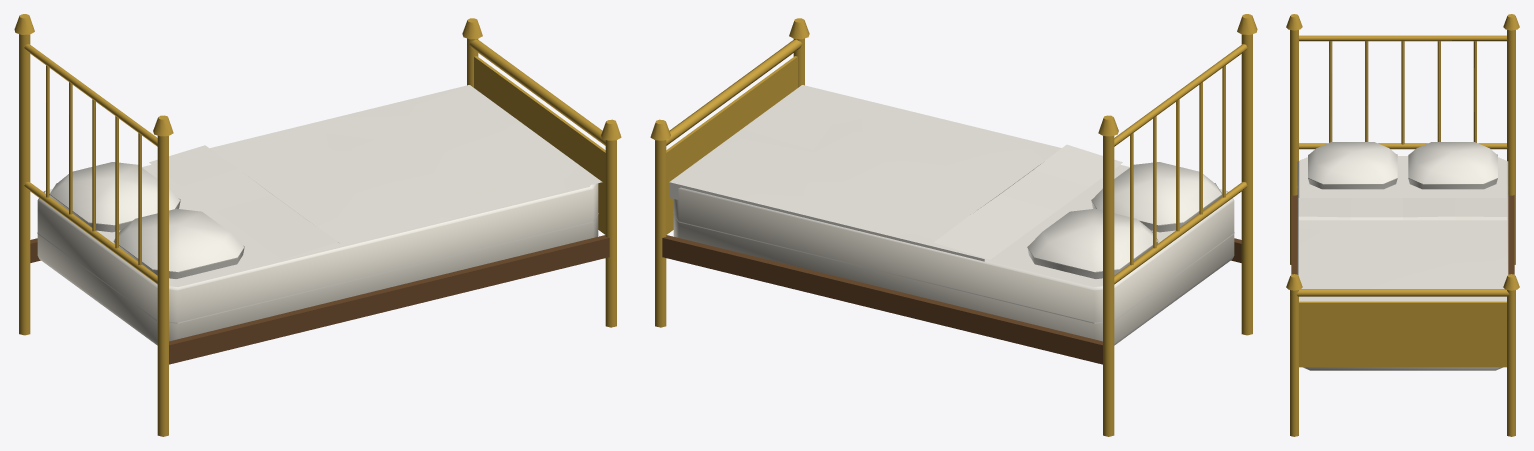
File: parametric-bed-1st-pub.glb
3 renders of one model, left to right at view 1: azimuth 30°, elevation 25°; view 2: azimuth 150°, elevation 25°; view 3: azimuth 270°, elevation 25°, orthographic. The views are drawn at different scales.
Parts seen in each view (by area): view 1: parametric-bed-1st-pub; view 2: parametric-bed-1st-pub; view 3: parametric-bed-1st-pub.
Part boxes in pixels (bbox=[...]): parametric-bed-1st-pub: bbox=[14, 14, 621, 436]; parametric-bed-1st-pub: bbox=[650, 14, 1257, 436]; parametric-bed-1st-pub: bbox=[1286, 14, 1519, 436].
Bounding box in the file's own units: 2.02 × 1.31 × 1.12.
